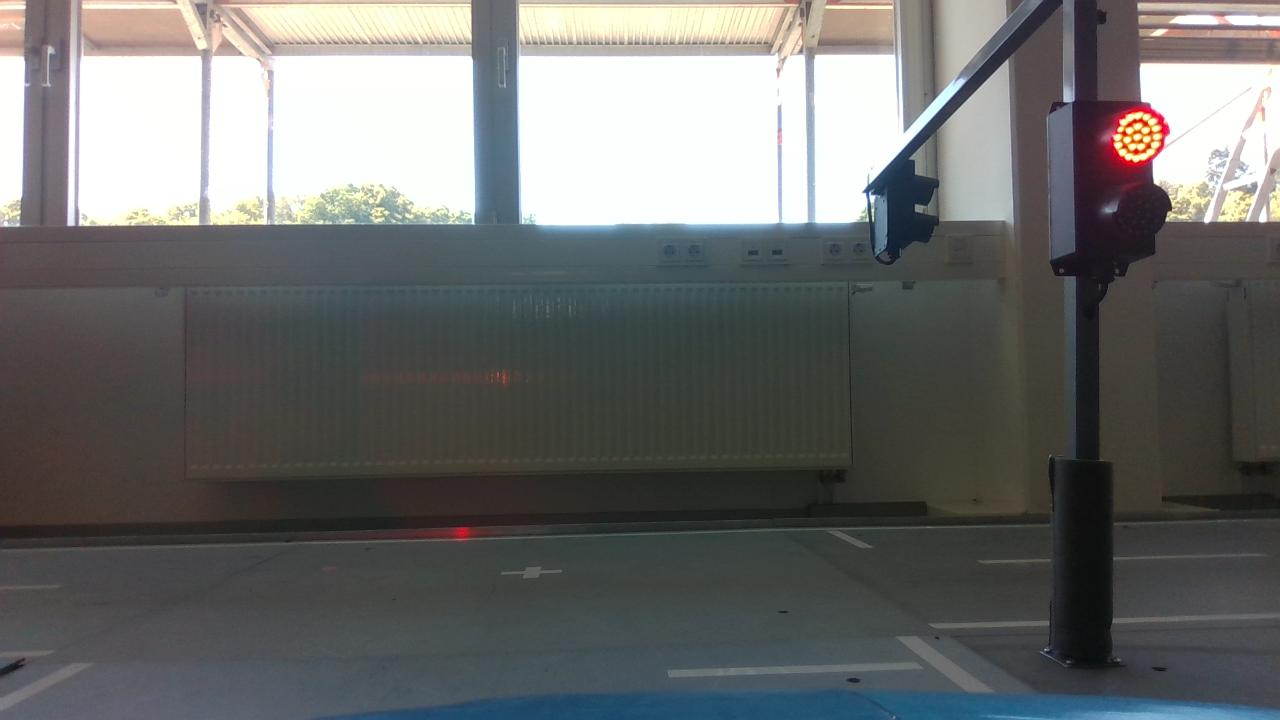traffic_light_red: (1038, 95, 1178, 289)
